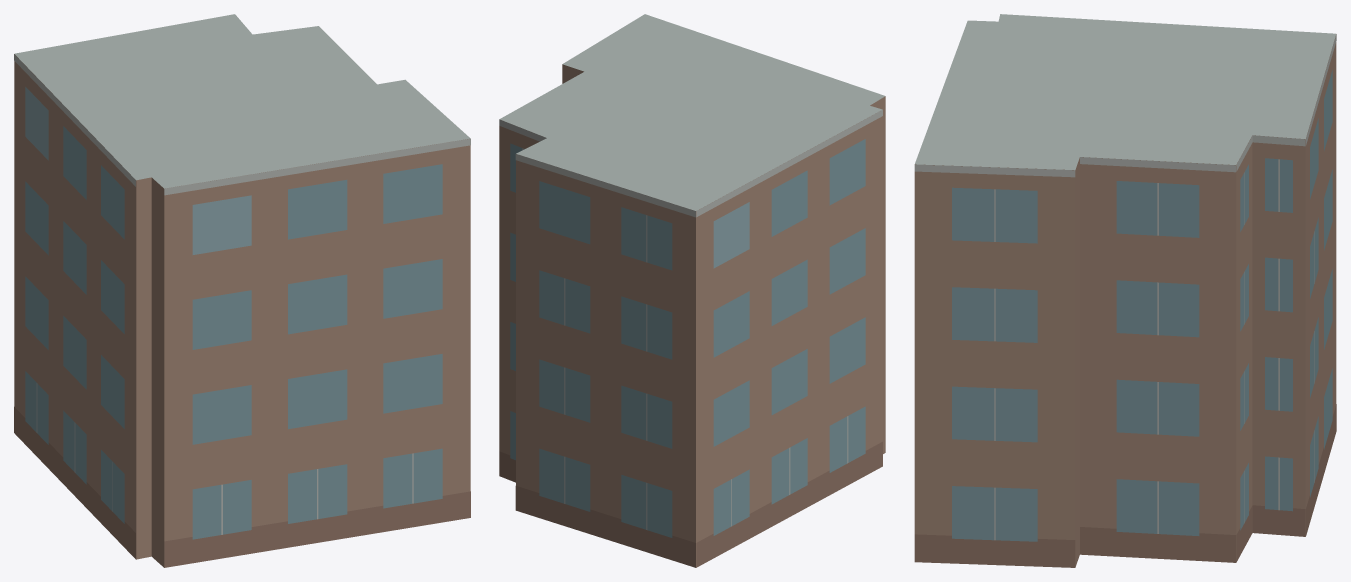
File: survey-upis-32581546.glb
3 renders of one model, left to right at view 1: azimuth 30°, elevation 25°; view 2: azimuth 150°, elevation 25°; view 3: azimuth 270°, elevation 25°, orthographic. The views are drawn at different scales.
Visible parts, largest first — view 1: survey-upis-32581546.tmp; view 2: survey-upis-32581546.tmp; view 3: survey-upis-32581546.tmp.
Part boxes in pixels (<box>): survey-upis-32581546.tmp: <box>14,14,470,567</box>; survey-upis-32581546.tmp: <box>499,14,885,567</box>; survey-upis-32581546.tmp: <box>914,14,1336,567</box>.
Bounding box in the file's own units: 11.42 × 13.55 × 13.03.
